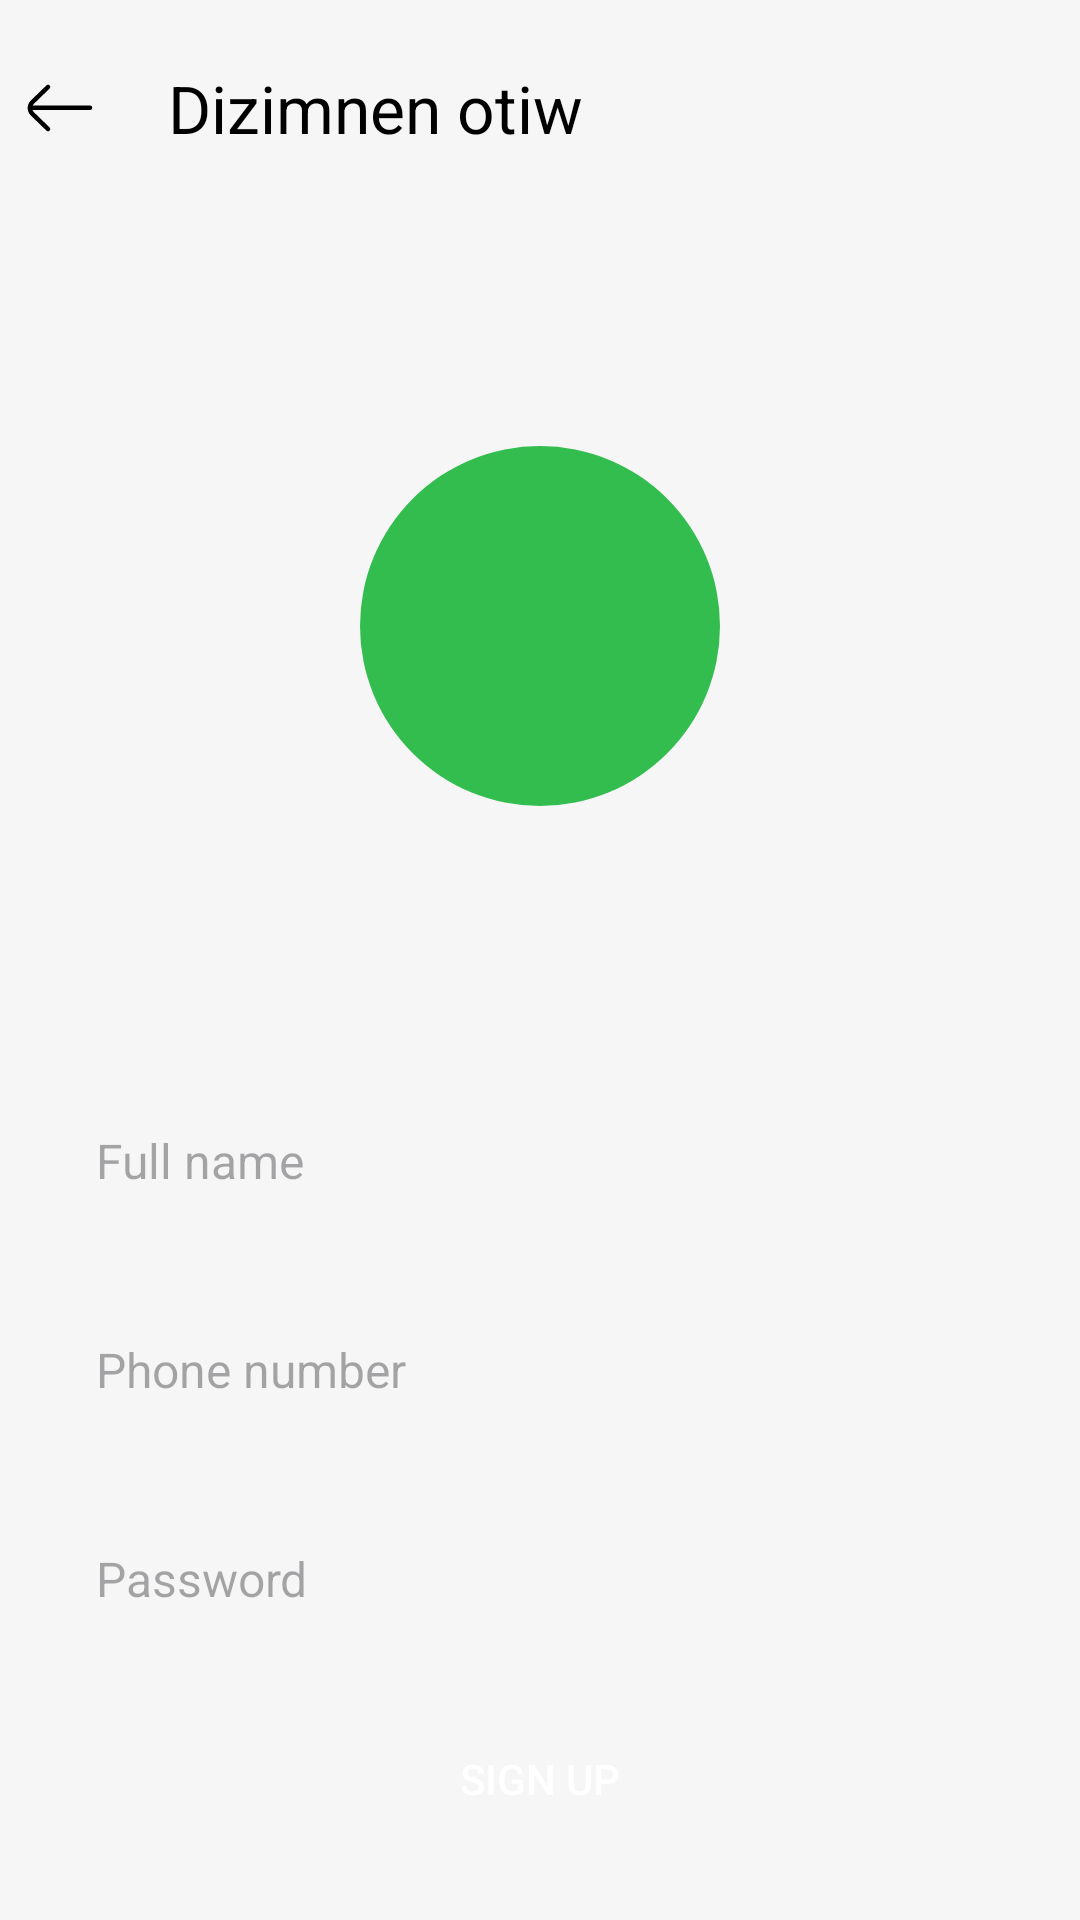

Point at icon controls on the screen. Image size 1080w x 1920h, points as (x=x, y=y).
left: (x=60, y=108)
